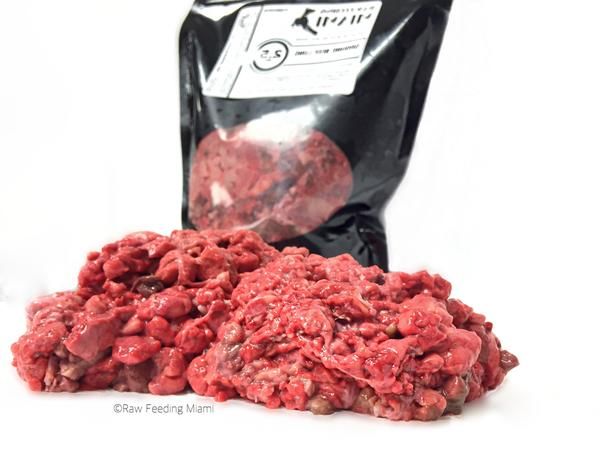ground_beef: (42, 228, 524, 428)
